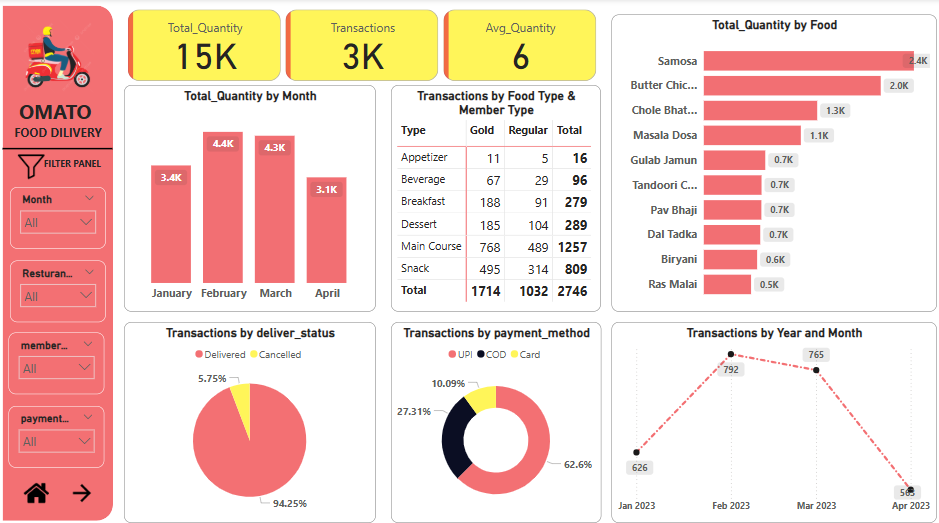

What the dashboard file says about the page in this screenshot:
{"tool":"powerbi","page":{"name":"Page 1","canvas":[1280,720],"ordinal":0},"visuals":[{"type":"shape","box":[6.4,11.1,149.5,696.7],"z":0},{"type":"image","box":[6.4,22.3,149.5,114.5],"z":1000},{"type":"textbox","box":[6.4,130.4,149.5,73.2],"z":2000},{"type":"shape","box":[6.4,189.3,149.5,30.2],"z":3000},{"type":"cardVisual","fields":{"Data":["Sales Data.Total_Quantity","Sales Data.Transactions","Sales Data.Avg_Quantity"]},"box":[170.1,10.1,644.1,107.3],"z":4000},{"type":"clusteredColumnChart","fields":{"Y":["Sales Data.Total_Quantity"],"Category":["Sales Data.orderDate.Variation.Date Hierarchy.Month"]},"box":[170.1,117.5,340.3,305.8],"z":5000},{"type":"pivotTable","title":"Transactions by Food Type & Member Type","fields":{"Columns":["Customer Details.member_Type"],"Rows":["Food_Details.Type"],"Values":["Sales Data.Transactions"]},"box":[530.6,117.5,283.5,305.8],"z":6000},{"type":"pieChart","fields":{"Category":["Sales Data.deliver_status"],"Y":["Sales Data.Transactions"]},"box":[170.1,437.5,340.3,271.4],"z":7000},{"type":"donutChart","fields":{"Y":["Sales Data.Transactions"],"Category":["Sales Data.payment_method"]},"box":[531,437,284,271],"z":8000},{"type":"clusteredBarChart","fields":{"Y":["Sales Data.Total_Quantity"],"Category":["Food_Details.Food"]},"box":[828.4,22.3,439.5,401],"z":9000},{"type":"lineChart","fields":{"Y":["Sales Data.Transactions"],"Category":["Sales Data.orderDate.Variation.Date Hierarchy.Year","Sales Data.orderDate.Variation.Date Hierarchy.Month"]},"box":[828,437,439,271],"z":10000},{"type":"slicer","fields":{"Values":["Sales Data.orderDate.Variation.Date Hierarchy.Month"]},"box":[16.2,255.2,129.6,83],"z":11000},{"type":"slicer","fields":{"Values":["Resturant_Details.Resturant_type"]},"box":[16.2,354.4,129.6,83],"z":12000},{"type":"slicer","fields":{"Values":["Customer Details.member_Type"]},"box":[14.2,451.6,129.6,83],"z":13000},{"type":"slicer","fields":{"Values":["Sales Data.payment_method"]},"box":[14.2,550.9,129.6,83],"z":14000},{"type":"image","box":[14.2,204.6,60.8,46.6],"z":15000},{"type":"textbox","box":[57.3,208.4,89.1,38.2],"z":16000},{"type":"image","box":[15.9,645.8,71.6,44.5],"z":17000},{"type":"image","box":[85.9,645.8,57.3,44.5],"z":18000}]}

Visuals, with their boxes in screenshot pixels (x1, y1, x2, y2), scaled from the page's 1280x720 canvas onto the 939x523 screenshot:
shape: x1=5, y1=8, x2=114, y2=514
image: x1=5, y1=16, x2=114, y2=99
textbox: x1=5, y1=95, x2=114, y2=148
shape: x1=5, y1=138, x2=114, y2=159
cardVisual - Sales Data.Total_Quantity x Sales Data.Transactions: x1=125, y1=7, x2=597, y2=85
clusteredColumnChart - Sales Data.Total_Quantity x Sales Data.orderDate.Variation.Date Hierarchy.Month: x1=125, y1=85, x2=374, y2=307
"Transactions by Food Type & Member Type" pivotTable: x1=389, y1=85, x2=597, y2=307
pieChart - Sales Data.deliver_status x Sales Data.Transactions: x1=125, y1=318, x2=374, y2=515
donutChart - Sales Data.Transactions x Sales Data.payment_method: x1=390, y1=317, x2=598, y2=514
clusteredBarChart - Sales Data.Total_Quantity x Food_Details.Food: x1=608, y1=16, x2=930, y2=307
lineChart - Sales Data.Transactions x Sales Data.orderDate.Variation.Date Hierarchy.Year: x1=607, y1=317, x2=929, y2=514
slicer - Sales Data.orderDate.Variation.Date Hierarchy.Month: x1=12, y1=185, x2=107, y2=246
slicer - Resturant_Details.Resturant_type: x1=12, y1=257, x2=107, y2=318
slicer - Customer Details.member_Type: x1=10, y1=328, x2=105, y2=388
slicer - Sales Data.payment_method: x1=10, y1=400, x2=105, y2=460
image: x1=10, y1=149, x2=55, y2=182
textbox: x1=42, y1=151, x2=107, y2=179
image: x1=12, y1=469, x2=64, y2=501
image: x1=63, y1=469, x2=105, y2=501
